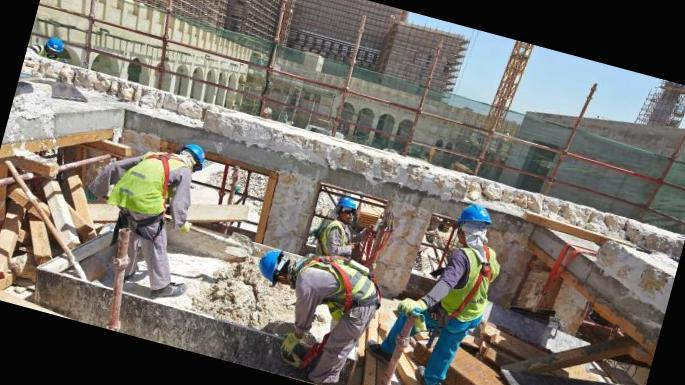helmet: (258, 243, 286, 279), (461, 202, 495, 227), (182, 140, 210, 166), (336, 194, 360, 211)
person: (390, 192, 516, 385), (86, 120, 216, 307), (235, 240, 386, 385), (312, 192, 366, 268)
